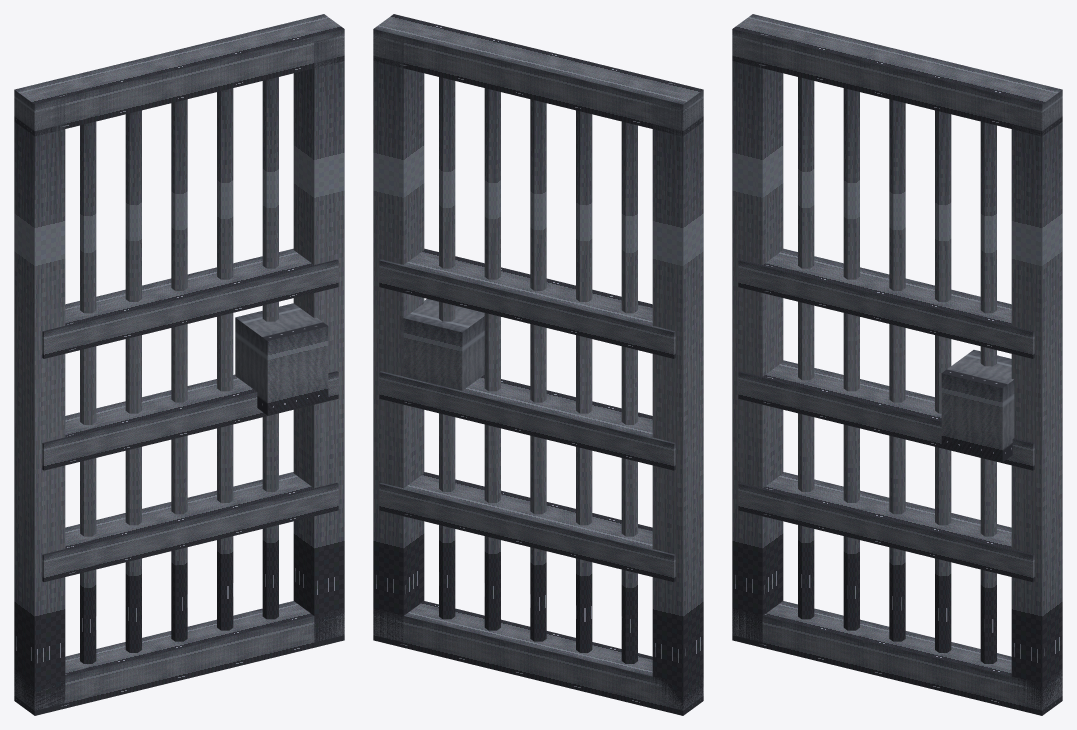
Rendered from prisao_porta_de_cela_nivel_2.glb.
3 renders of one model, left to right at view 1: azimuth 30°, elevation 25°; view 2: azimuth 150°, elevation 25°; view 3: azimuth 330°, elevation 25°, orthographic.
Parts seen in each view (by area): view 1: prisao_porta_de_cela_nivel_2; view 2: prisao_porta_de_cela_nivel_2; view 3: prisao_porta_de_cela_nivel_2.
Part boxes in pixels (<box>): prisao_porta_de_cela_nivel_2: <box>14,14,344,715</box>; prisao_porta_de_cela_nivel_2: <box>373,14,703,715</box>; prisao_porta_de_cela_nivel_2: <box>732,14,1062,715</box>.
Bounding box in the file's own units: 1.22 × 2.3 × 0.23.
1 material, 1 textured.
